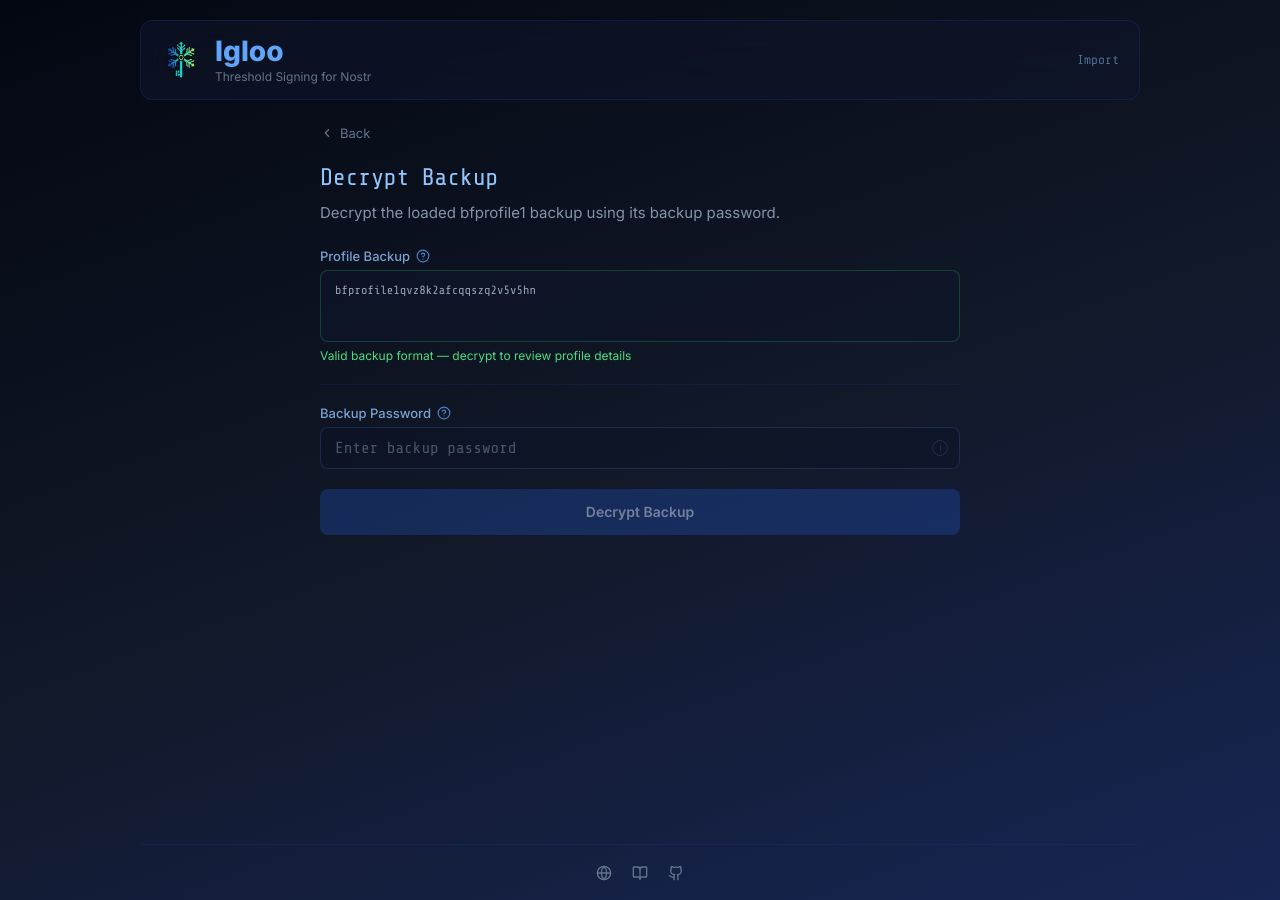
DecryptBackupScreen › Decrypt CTA is disabled until the password field has input (VAL-IMP-002)
Expected: the button "Decrypt Backup" is disabled, x1=320 y1=489 x2=960 y2=535
Type "hunter2" into the password field labelled "Backup Password". click: (640, 448)
box: x1=320 y1=427 x2=960 y2=469
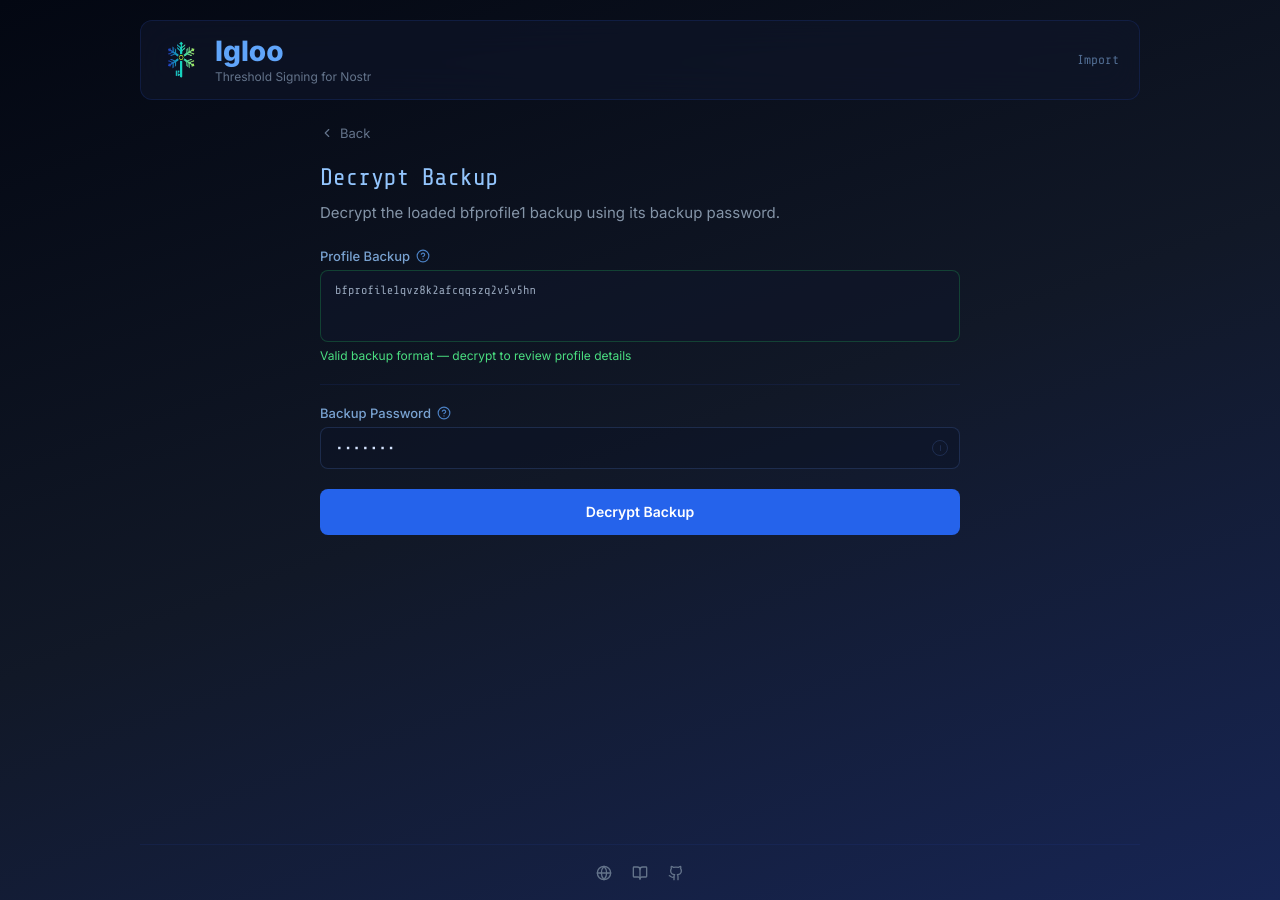
Expected: the button "Decrypt Backup" is enabled, x1=320 y1=489 x2=960 y2=535
